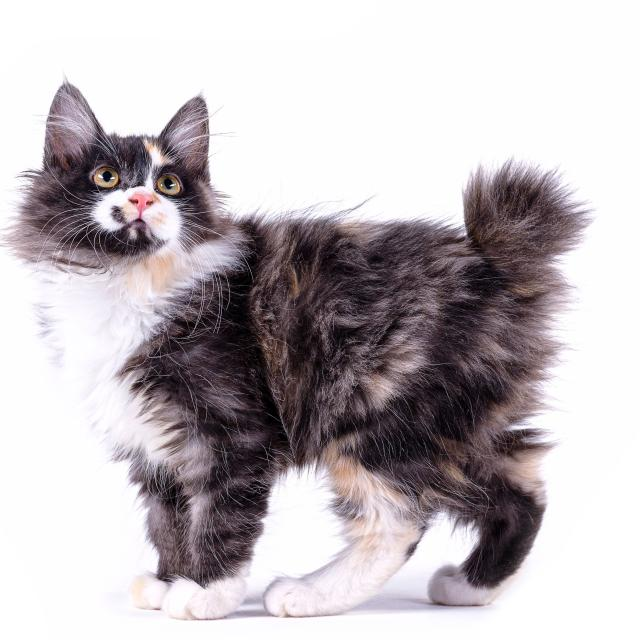American Bobtail: (0, 69, 601, 628)
